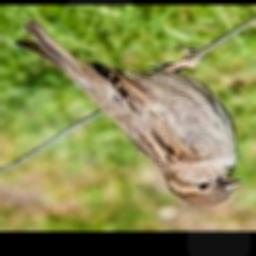Sparrow: (15, 20, 243, 206)
